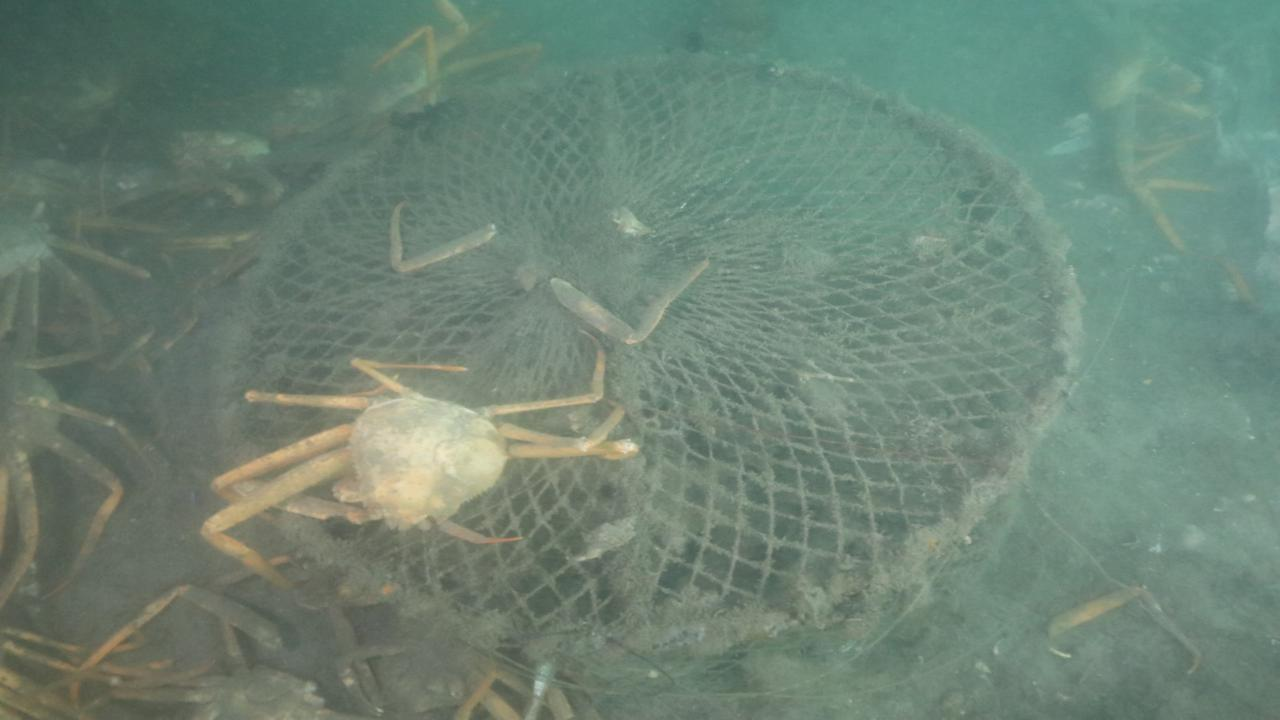circular fish trap: (211, 48, 1086, 650)
